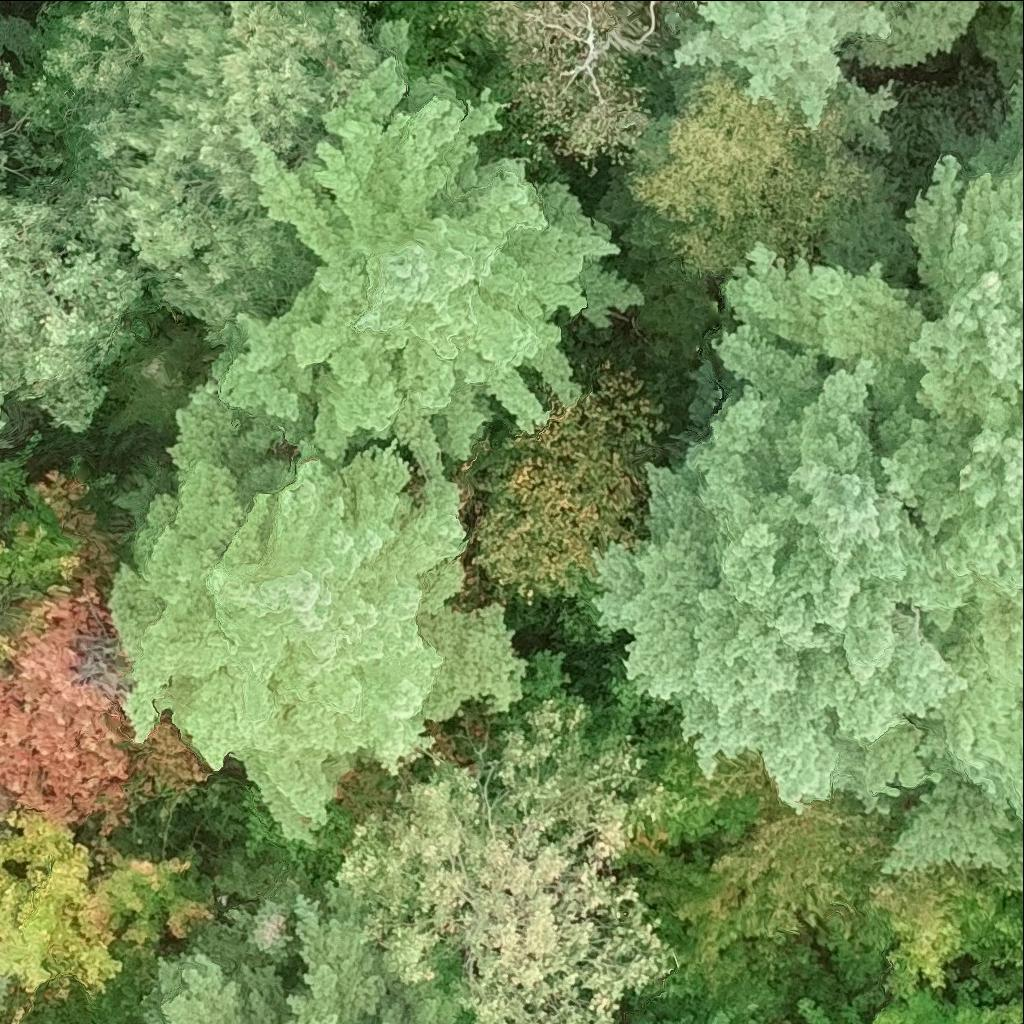crown: (168, 61, 643, 482), (714, 155, 1023, 798), (109, 440, 526, 843), (596, 360, 970, 806), (10, 0, 407, 384), (323, 707, 684, 1023), (629, 60, 897, 276), (0, 574, 213, 834), (0, 806, 211, 1023), (143, 904, 465, 1023), (0, 194, 132, 427), (481, 0, 660, 169), (671, 798, 818, 999), (674, 0, 889, 122), (883, 703, 1023, 878), (866, 860, 999, 998), (792, 789, 885, 939), (0, 485, 89, 599), (868, 987, 1023, 1023), (0, 635, 12, 665), (0, 131, 4, 179)
